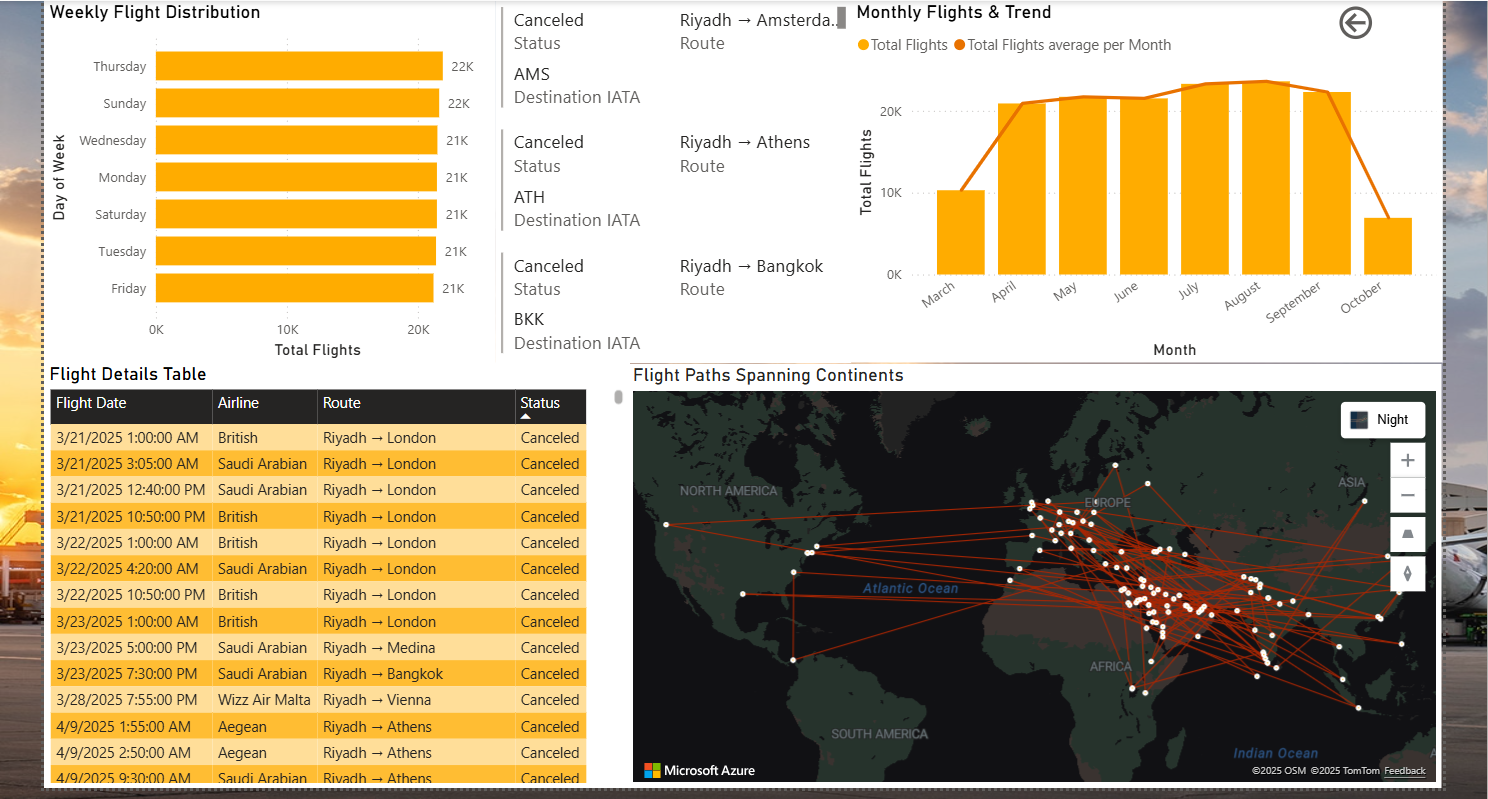

Layout of this report page (visuals, bound fields, positions):
{"tool":"powerbi","page":{"name":"Page 2","canvas":[1280,720],"ordinal":2},"visuals":[{"type":"multiRowCard","fields":{"Values":["Flights.Status","Flights.Route","Flights.Destination IATA"]},"box":[413.4,0,325.6,331.6],"z":0},{"type":"tableEx","title":"Flight Details Table","fields":{"Values":["flights_RUH_statuses_balanced_and_simplified.Flight Date","flights_RUH_statuses_balanced_and_simplified.Airline","flights_RUH_statuses_balanced_and_simplified.Route","Flights.Status"]},"box":[0,331.2,535.3,389.3],"z":1000},{"type":"lineStackedColumnComboChart","title":"Monthly Flights & Trend","fields":{"Category":["Flights.Month.Variation.Date Hierarchy.Month"],"Y":["Flights.Total Flights"],"Y2":["Flights.Total Flights average per Month"]},"box":[738.2,0,541.2,330.9],"z":2000},{"type":"barChart","title":"Weekly Flight Distribution","fields":{"Category":["Flights.Day of Week"],"Y":["Flights.Total Flights"]},"box":[0,0,413.4,331.6],"z":3000},{"type":"actionButton","box":[1180.2,0,100.2,39.8],"z":4000},{"type":"azureMap","title":"Flight Distribution Map","fields":{"Category":["Flights.Destination"],"Size":["Flights.Total Flights"]},"box":[534.6,331.8,744.8,389],"z":5000}]}

Visuals, with their boxes on the page's 1280x720 design canvas (x1, y1, x2, y2). These are canvas units, not pixel positions in the 1488x799 screenshot, which may show the page scaled, cropped or inside an application window:
multiRowCard - Flights.Status x Flights.Route: region(413, 0, 739, 332)
"Flight Details Table" tableEx: region(0, 331, 535, 720)
"Monthly Flights & Trend" lineStackedColumnComboChart: region(738, 0, 1279, 331)
"Weekly Flight Distribution" barChart: region(0, 0, 413, 332)
actionButton: region(1180, 0, 1280, 40)
"Flight Distribution Map" azureMap: region(535, 332, 1279, 721)
